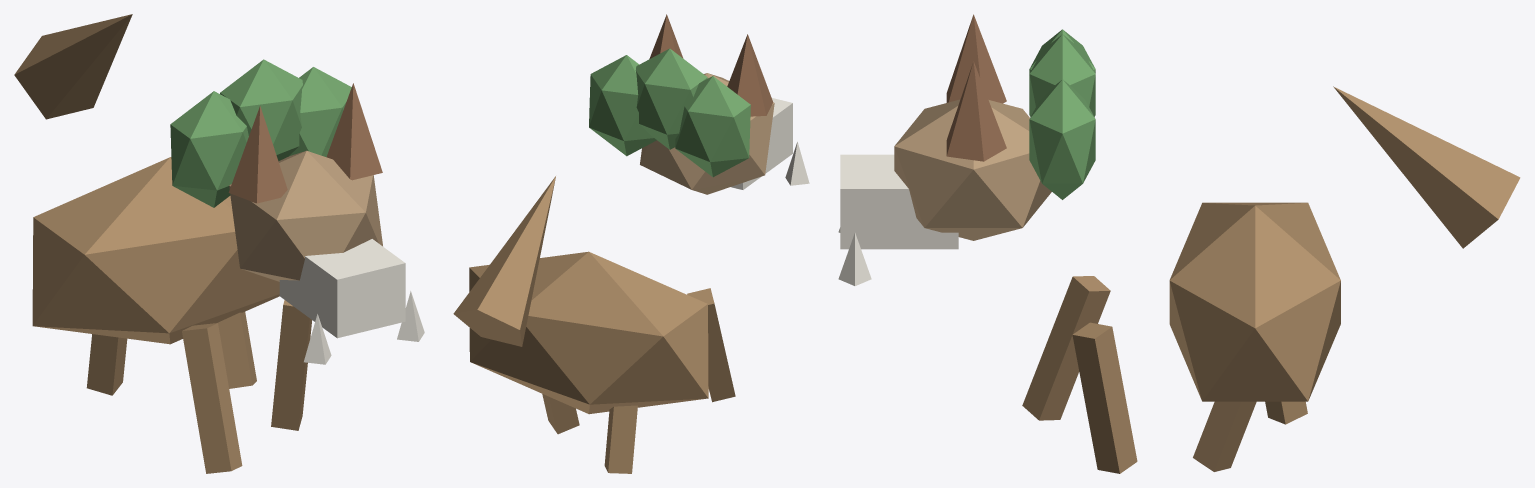
File: npcpose_wolf_walk_11.glb
The picture shows the model from 3 angles, left to right: view 1: azimuth 30°, elevation 25°; view 2: azimuth 150°, elevation 25°; view 3: azimuth 270°, elevation 25°; orthographic projection. The views are drawn at different scales.
Visible parts, largest first — view 1: npcpose; view 2: npcpose; view 3: npcpose.
Part boxes in pixels (x1,y1,x2,y2): npcpose: (14,14,424,473); npcpose: (453,14,809,473); npcpose: (838,14,1520,473).
Bounding box in the file's own units: 0.8873 × 1.22 × 1.84.
